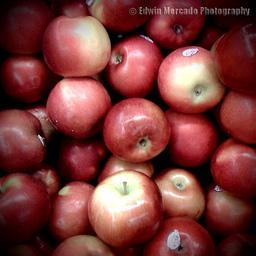apple: (88, 169, 163, 250), (39, 14, 110, 79), (158, 46, 224, 112), (101, 98, 169, 162), (102, 34, 161, 100), (47, 76, 110, 137), (1, 173, 51, 241), (166, 111, 219, 172), (211, 22, 256, 91), (1, 109, 48, 173), (144, 2, 206, 50), (209, 138, 256, 198), (144, 218, 215, 256), (154, 168, 205, 219), (202, 186, 253, 236), (1, 1, 49, 53), (1, 54, 47, 107), (52, 181, 95, 237), (219, 90, 256, 145), (86, 1, 152, 30), (59, 141, 103, 180)
